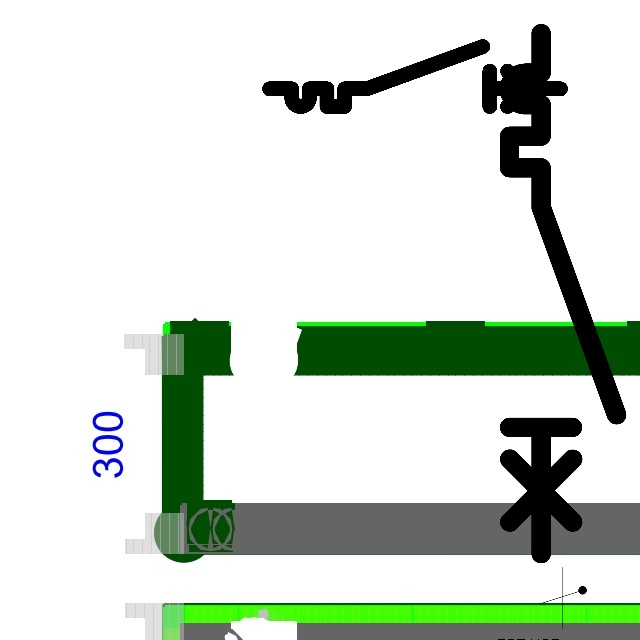interruptor_termomagnetico: (496, 20, 630, 567), (262, 39, 568, 114)
